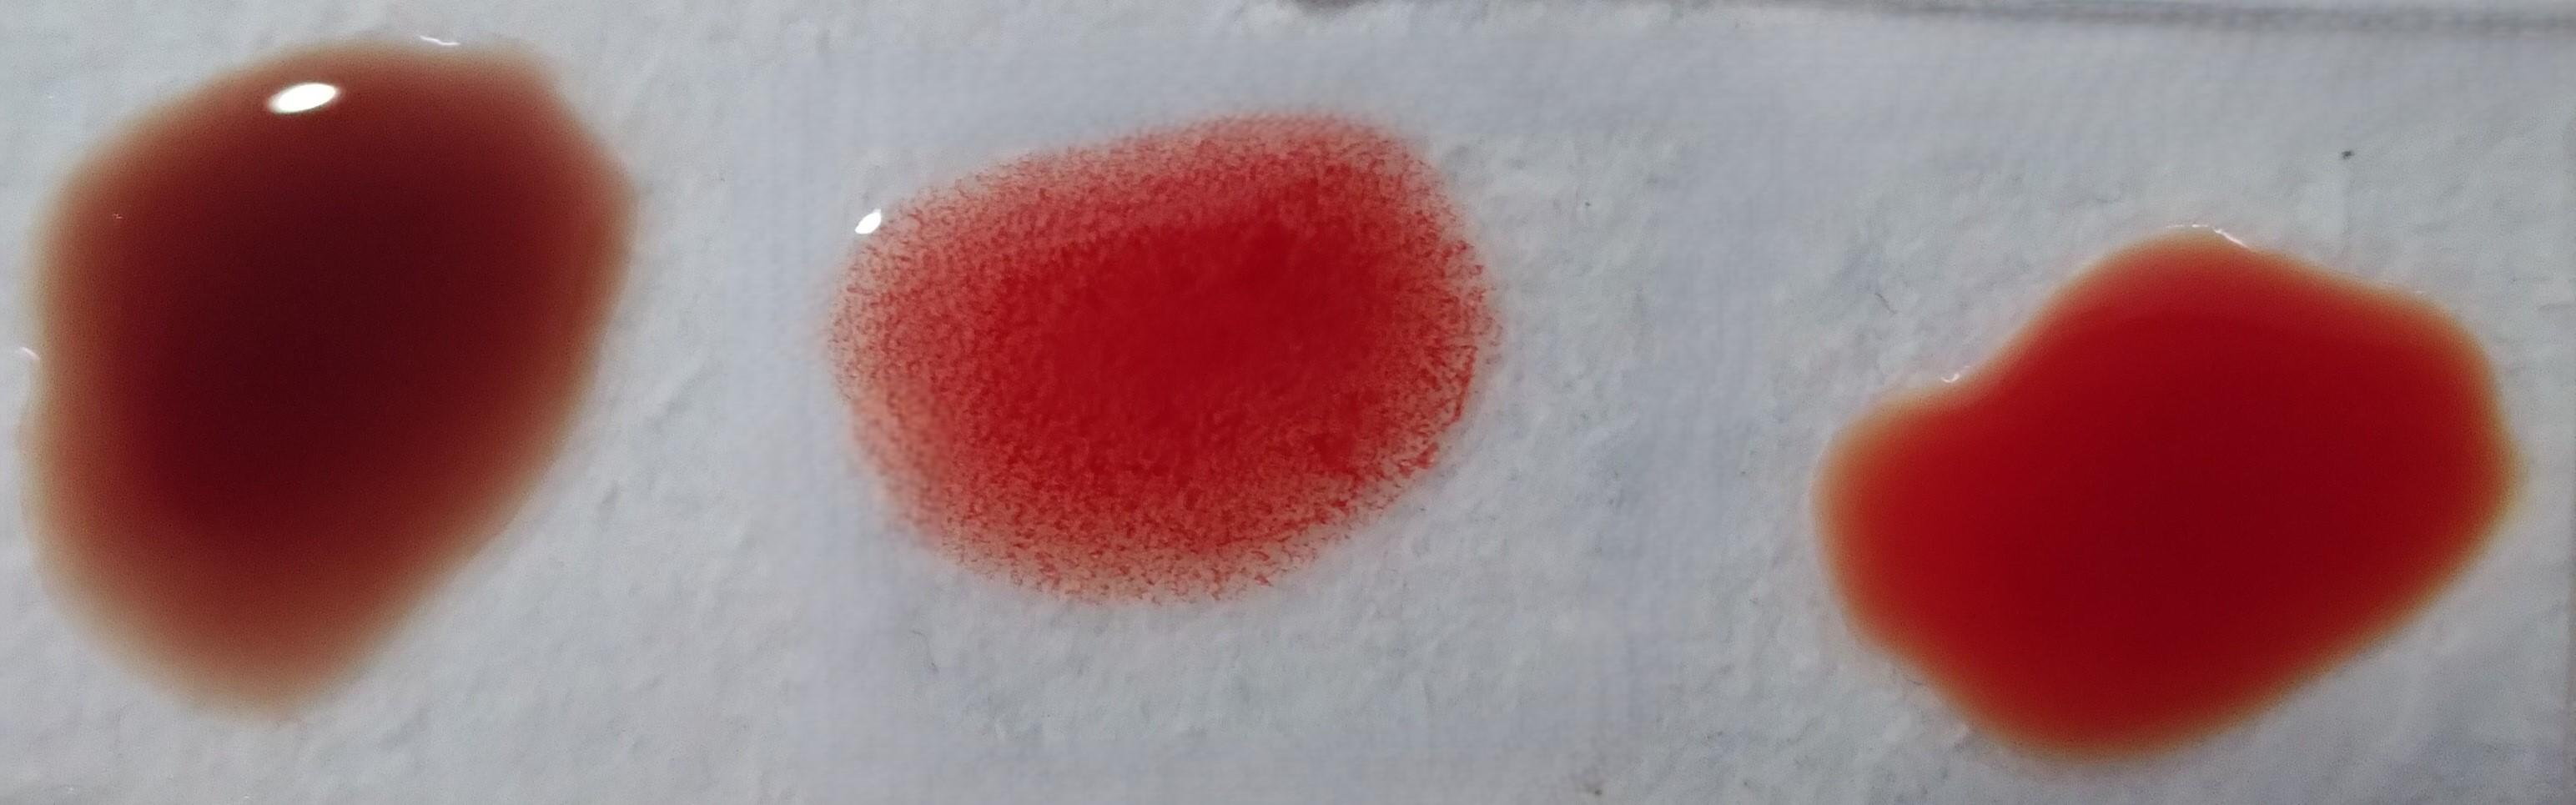D: (839, 117, 1497, 608)
